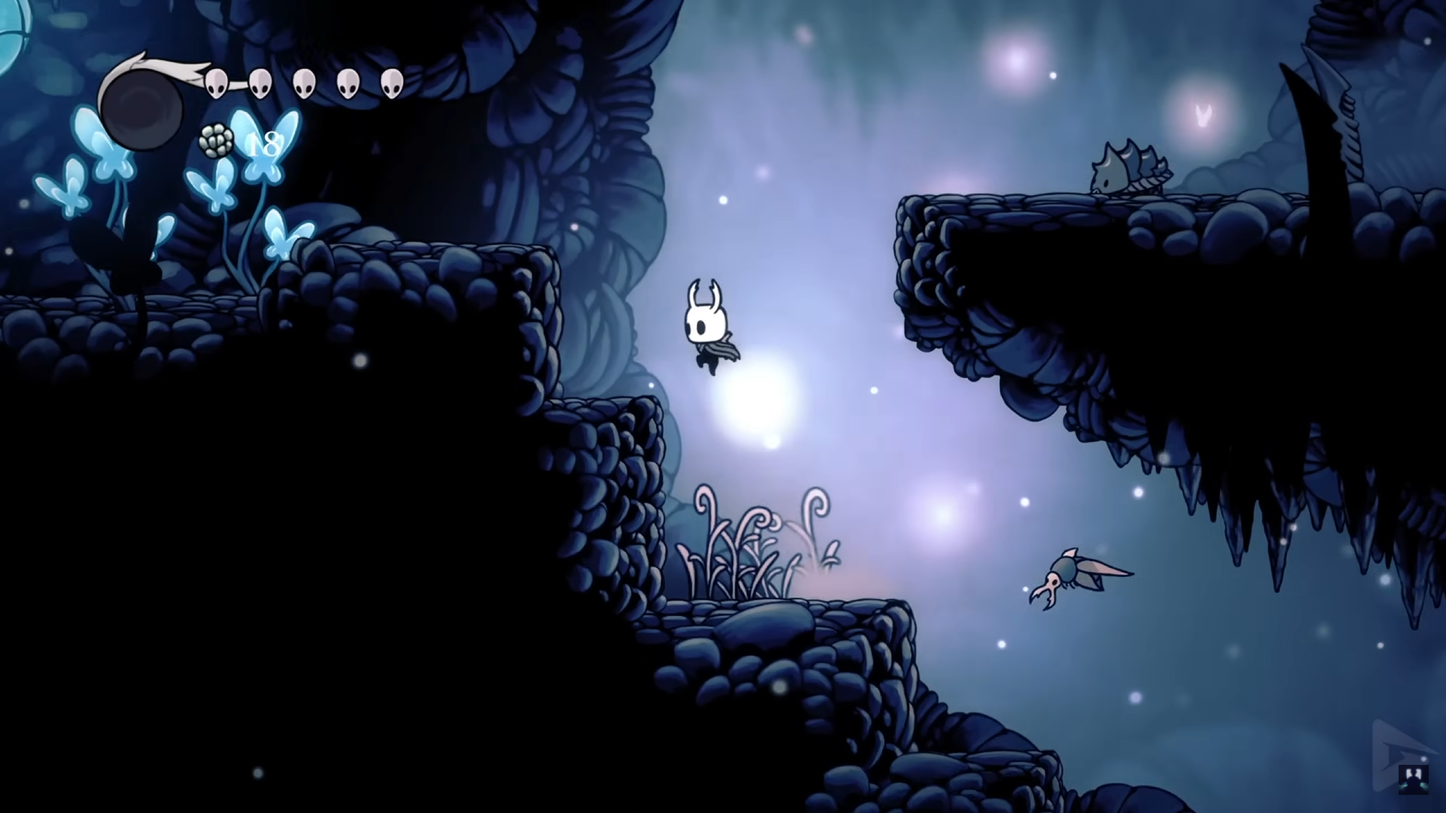HK: (680, 272, 740, 380)
